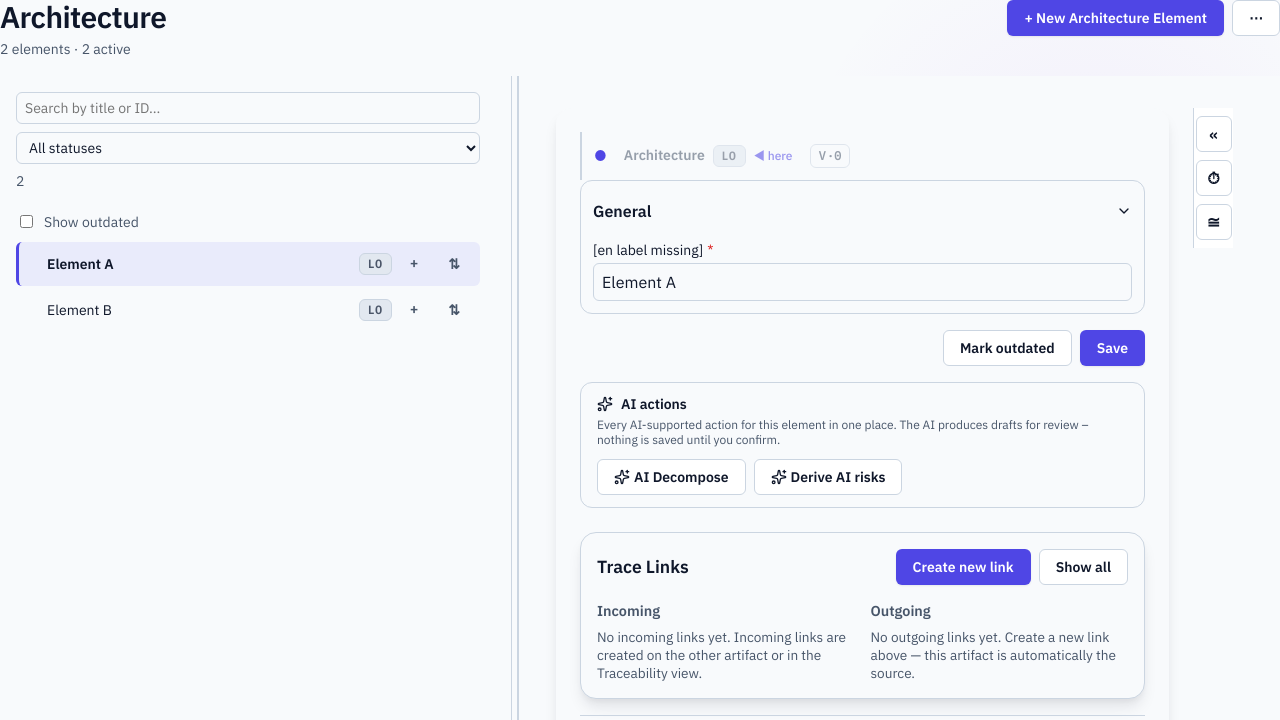
Scenario: ArchitectureEditors — unsaved-changes confirmation before tree navigation (#672) › navigates and discards the unsaved edit once the user confirms
The image size is (1280, 720).
Replace the text in the field with test id "artifact-field-title" with "Unsaved edit": (862, 282) [593,262,1132,300]
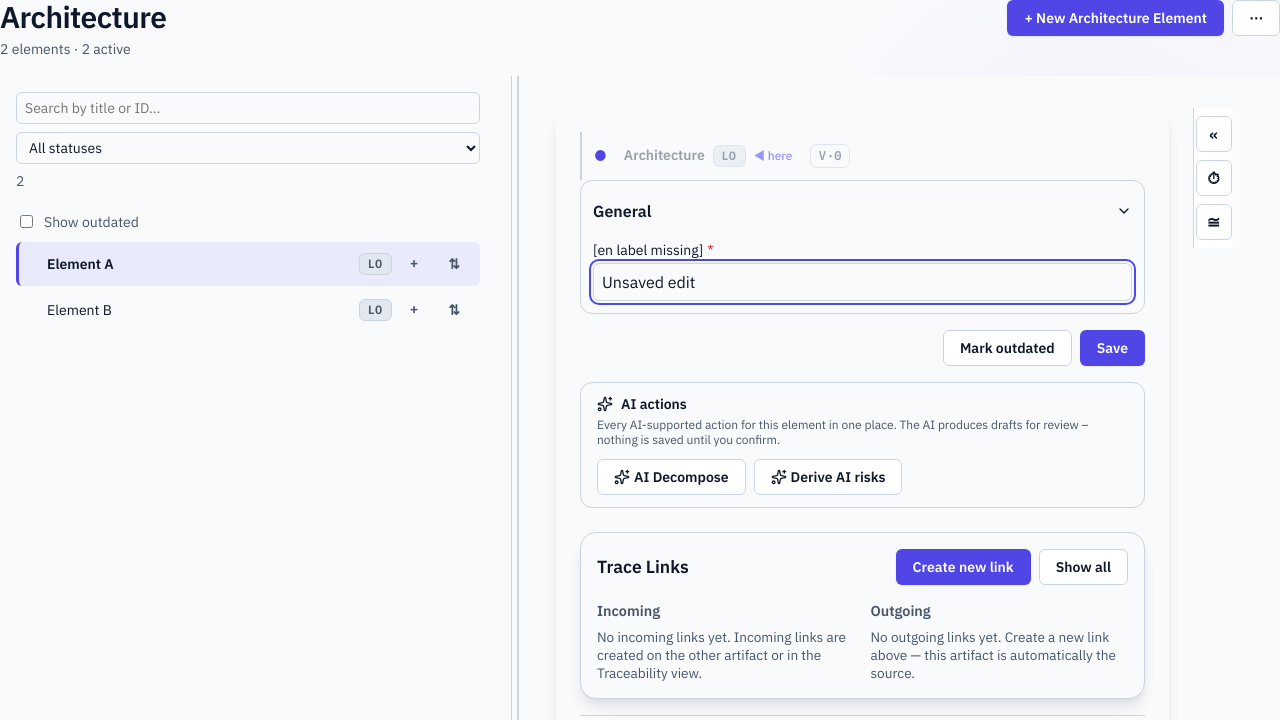
Click the list item "Element B L0 + ⇅": (79, 310) [16,288,480,332]
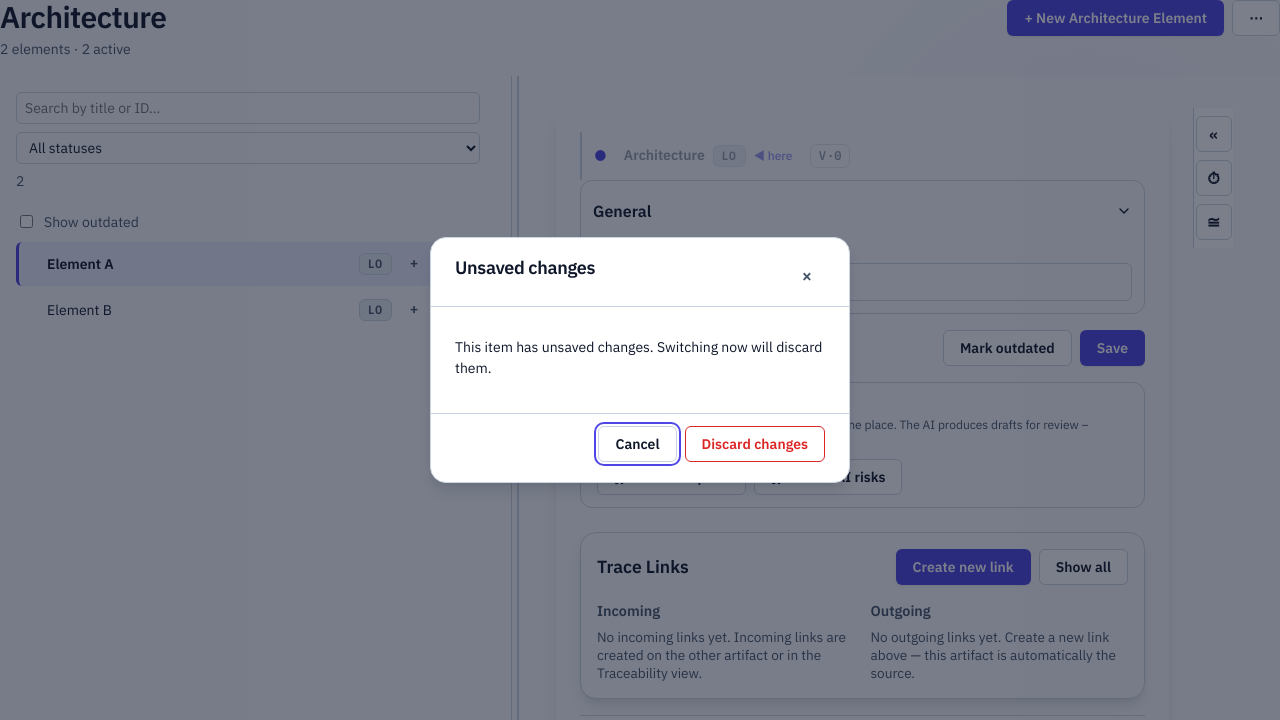
Expected: the dialog with test id "arch-unsaved-changes-dialog" is shown, [430,237,850,483]
Click the button with test id "arch-unsaved-changes-dialog-confirm": (755, 444) [684,426,825,462]
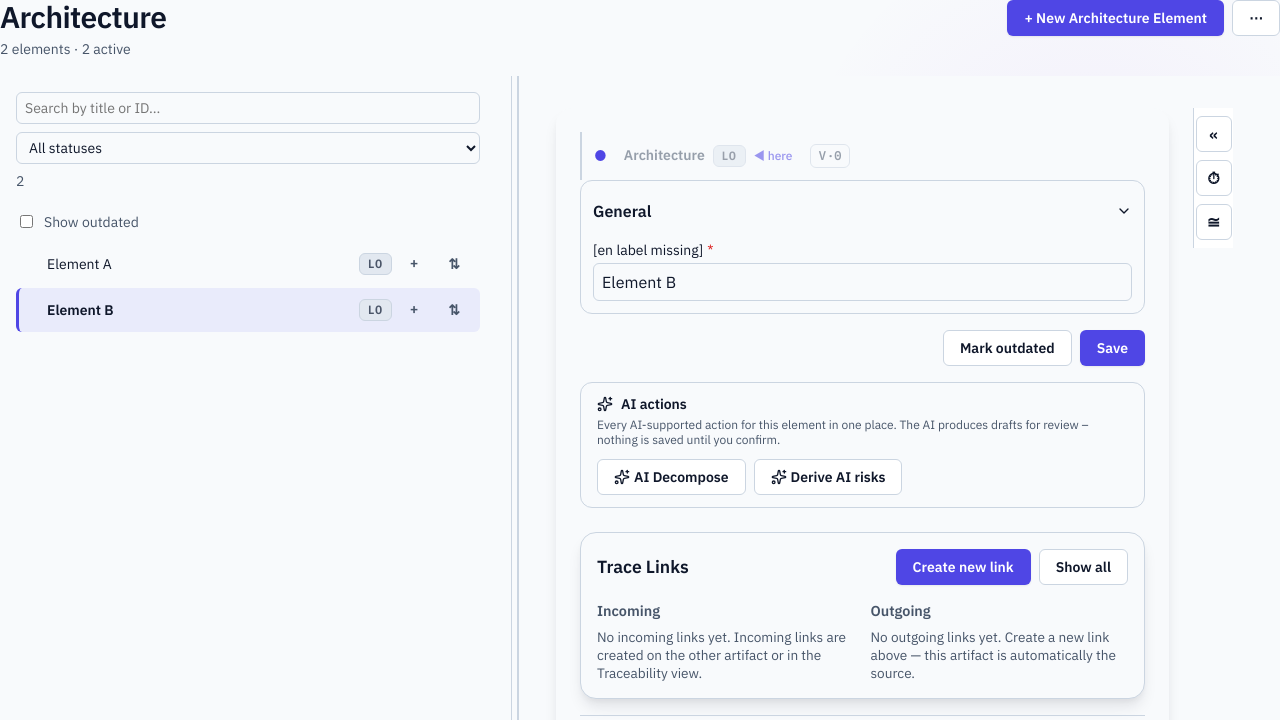
Expected: the field with test id "artifact-field-title" holds "Element B", [593,262,1132,300]
Expected: the dialog with test id "arch-unsaved-changes-dialog" is gone
